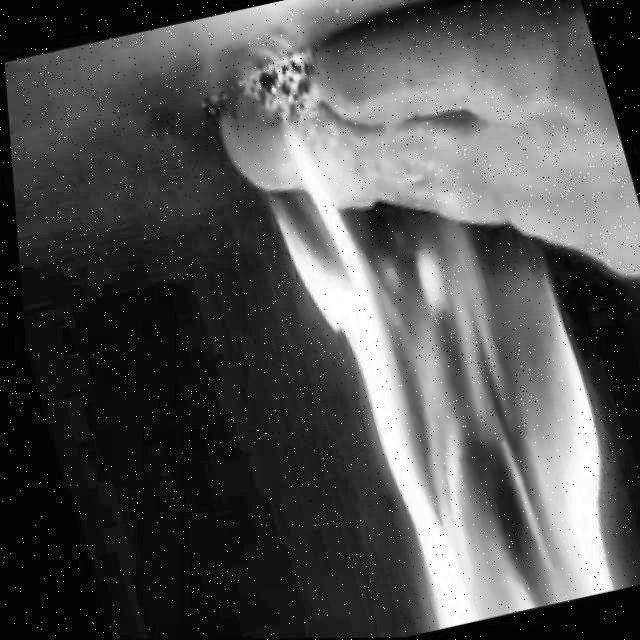Fire: (246, 71, 640, 639)
